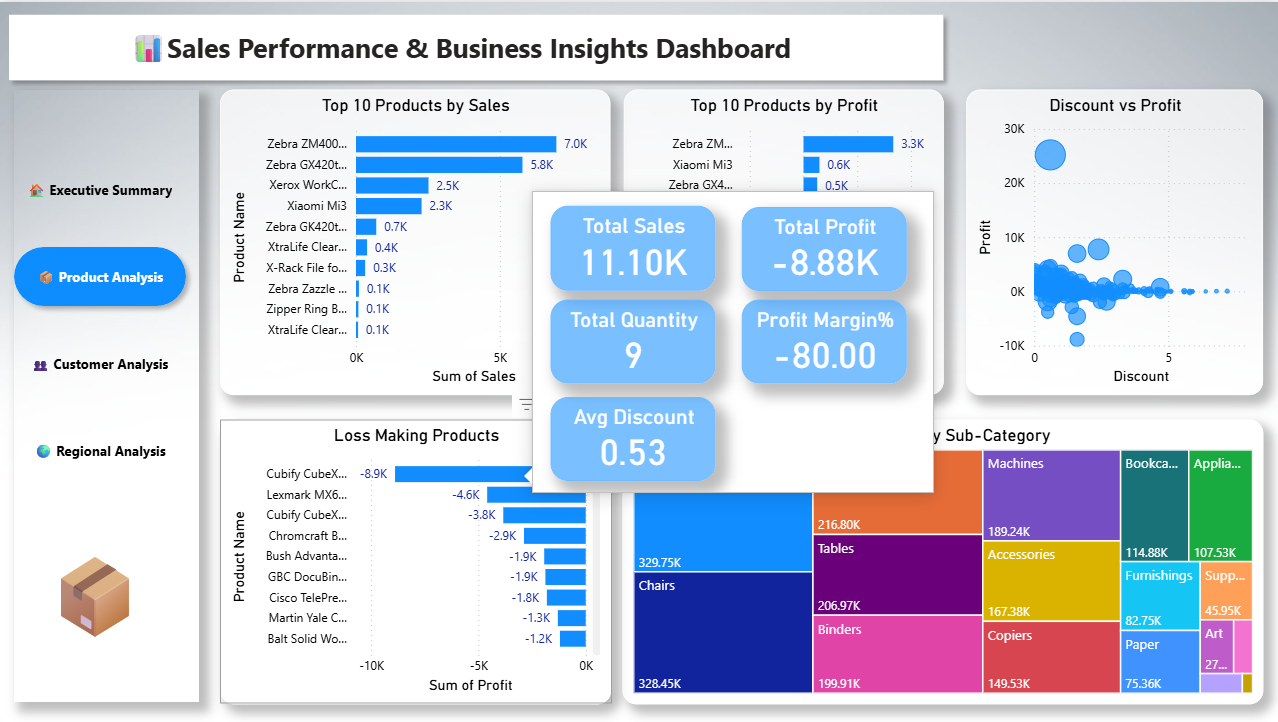

Layout of this report page (visuals, bound fields, positions):
{"tool":"powerbi","page":{"name":"📦 Product Analysis","canvas":[1280,720],"ordinal":1},"visuals":[{"type":"clusteredBarChart","title":"Top 10 Products by Sales","fields":{"Category":["sales_cleaned_final.Product Name"],"Y":["Sum(sales_cleaned_final.Sales)"]},"box":[219.7,87.3,390.1,305.6],"z":0},{"type":"clusteredBarChart","title":"Top 10 Products by Profit","fields":{"Category":["sales_cleaned_final.Product Name"],"Y":["Sum(sales_cleaned_final.Profit)"]},"box":[623.9,87.3,319.7,305.6],"z":1000},{"type":"clusteredBarChart","title":"Loss Making Products","fields":{"Y":["Sum(sales_cleaned_final.Profit)"],"Category":["sales_cleaned_final.Product Name"]},"box":[219.7,416.9,391.5,284.5],"z":2000},{"type":"treemap","fields":{"Values":["sales_cleaned_final.Total Sales"],"Group":["sales_cleaned_final.Sub-Category"]},"box":[622.5,416.9,640.8,284.5],"z":3000},{"type":"scatterChart","title":"Discount vs Profit","fields":{"X":["Sum(sales_cleaned_final.Discount)"],"Y":["Sum(sales_cleaned_final.Profit)"],"Size":["Sum(sales_cleaned_final.Sales)"],"Category":["sales_cleaned_final.Product Name"]},"box":[966.2,87.3,297.2,305.6],"z":4000},{"type":"shape","box":[14.1,87.3,185.9,612.7],"z":5000},{"type":"pageNavigator","box":[4.9,148.5,190.2,341.1],"z":6000},{"type":"textbox","title":"📦","box":[26,536.7,138.5,139.9],"z":7000},{"type":"shape","box":[0,3.7,952.2,83.4],"z":8000},{"type":"textbox","box":[14.7,22.1,905.5,45.4],"z":9000}]}

Visuals, with their boxes on the page's 1280x720 design canvas (x1, y1, x2, y2). These are canvas units, not pixel positions in the 1278x722 screenshot, which may show the page scaled, cropped or inside an application window:
"Top 10 Products by Sales" clusteredBarChart: rect(220, 87, 610, 393)
"Top 10 Products by Profit" clusteredBarChart: rect(624, 87, 944, 393)
"Loss Making Products" clusteredBarChart: rect(220, 417, 611, 701)
treemap - sales_cleaned_final.Total Sales x sales_cleaned_final.Sub-Category: rect(622, 417, 1263, 701)
"Discount vs Profit" scatterChart: rect(966, 87, 1263, 393)
shape: rect(14, 87, 200, 700)
pageNavigator: rect(5, 148, 195, 490)
"📦" textbox: rect(26, 537, 164, 677)
shape: rect(0, 4, 952, 87)
textbox: rect(15, 22, 920, 68)
